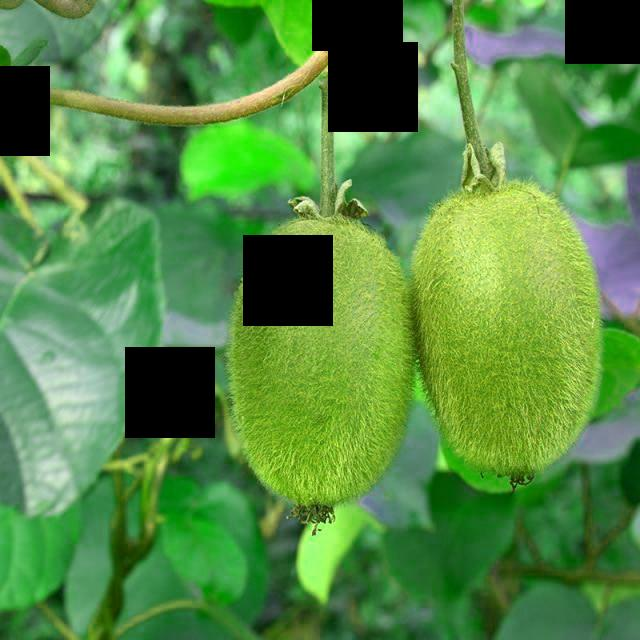kiwi: (226, 191, 420, 532), (413, 176, 603, 489)
